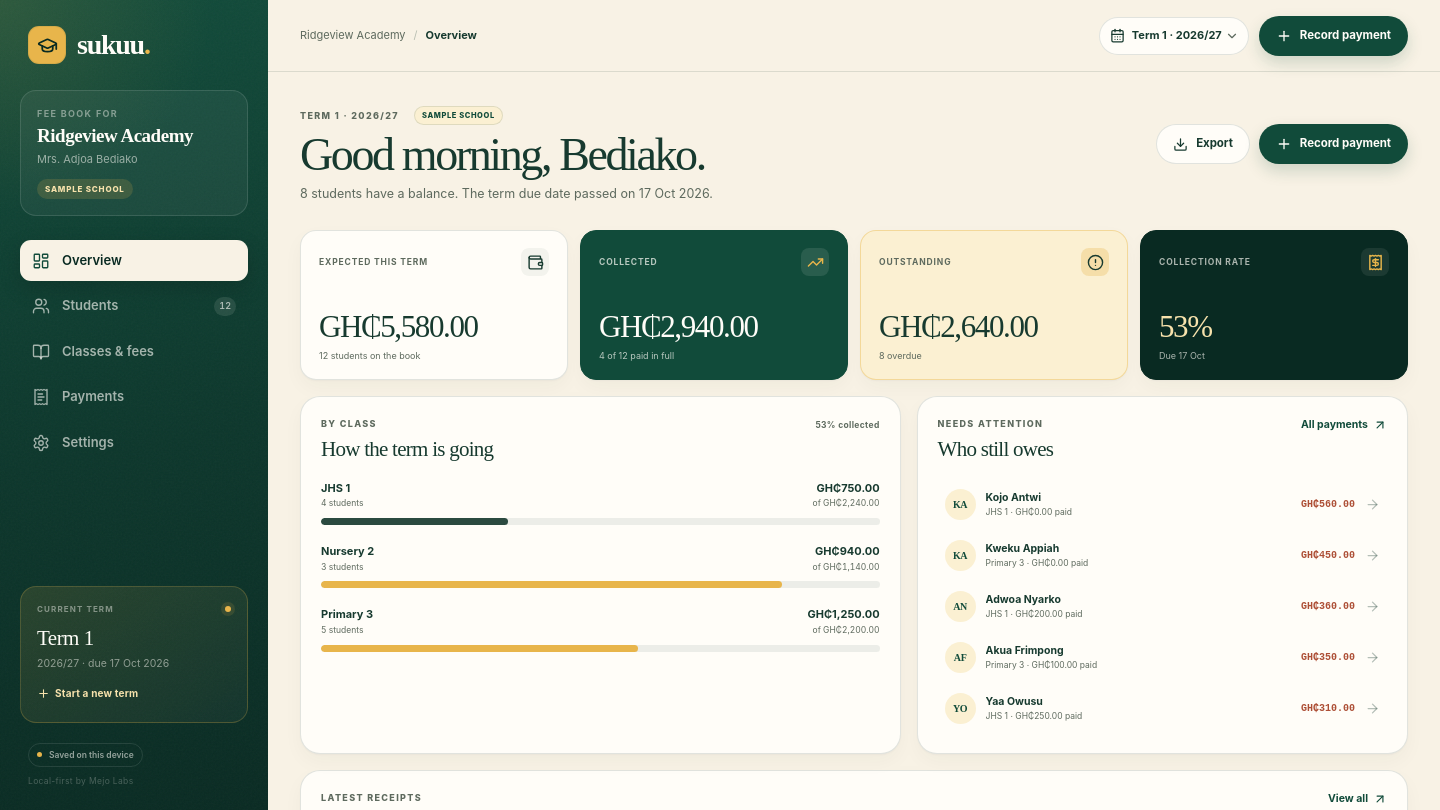
Test: Sukuu app › rejects a payment larger than the remaining balance
The image size is (1440, 810).
Click the 1st button "Record payment" at x=1333, y=36, box [1259,16,1408,56]
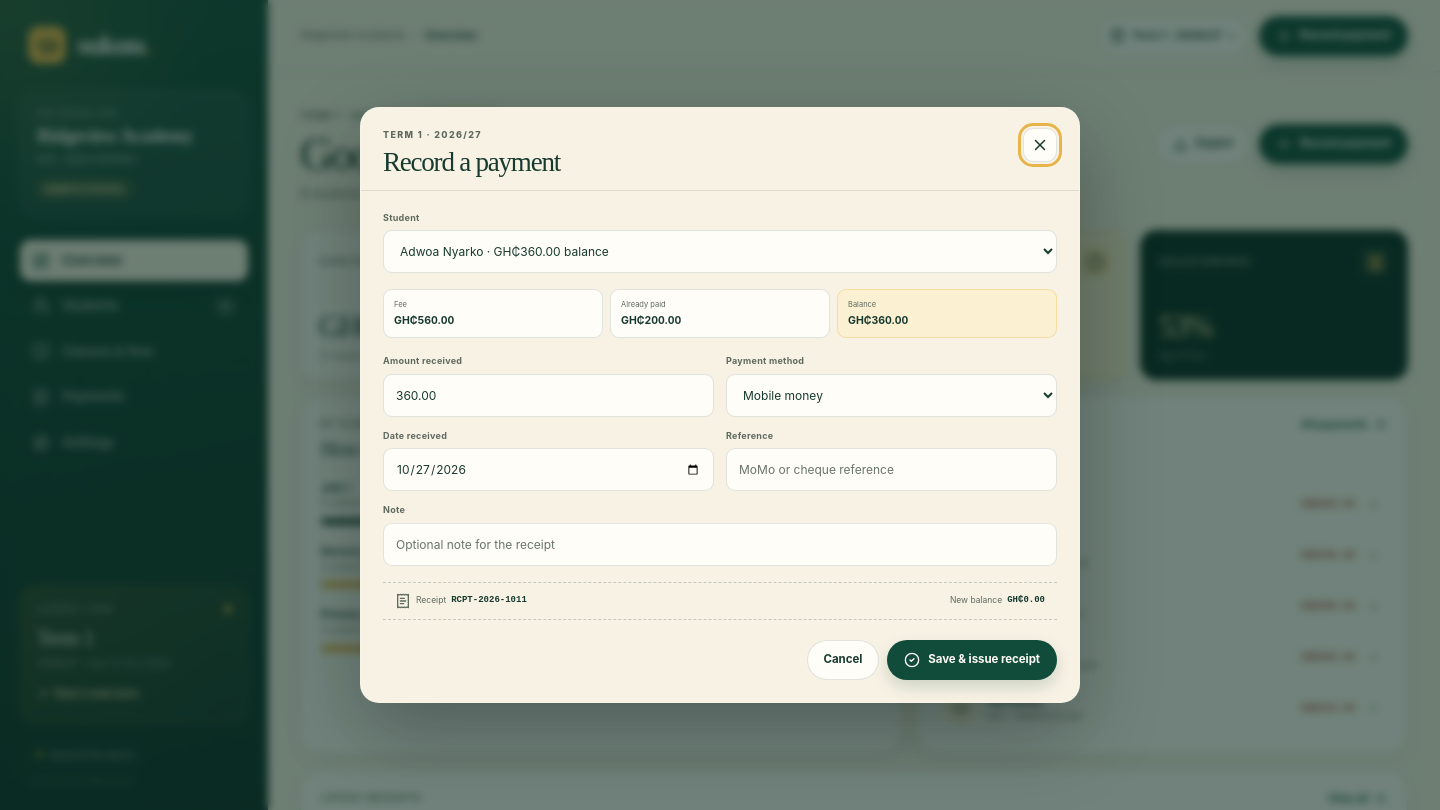
Replace the text in the field labelled "Amount received" with "9999" at x=548, y=395, box [383,374,714,417]
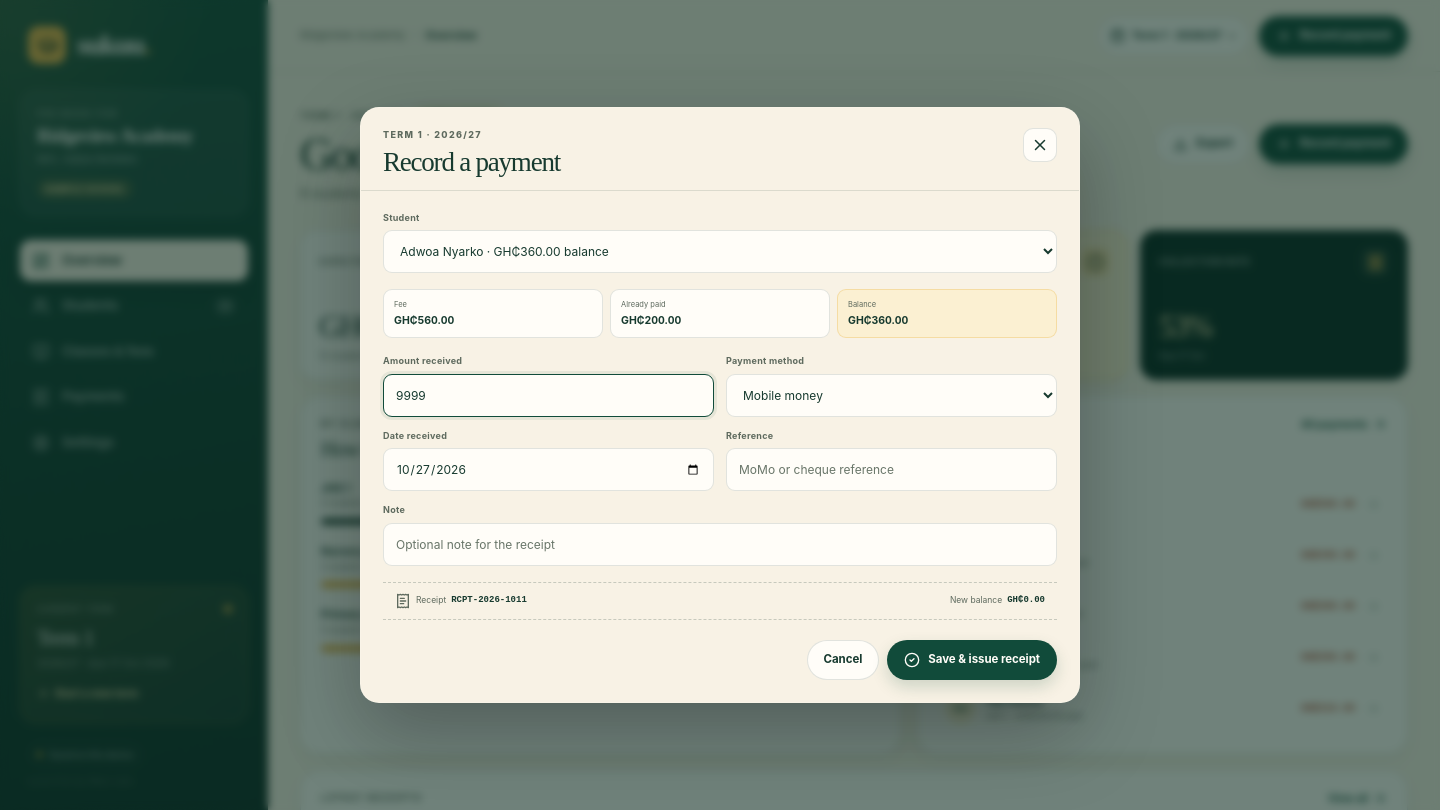
Click the button "Save & issue receipt" at x=972, y=660, box [887,640,1057,680]
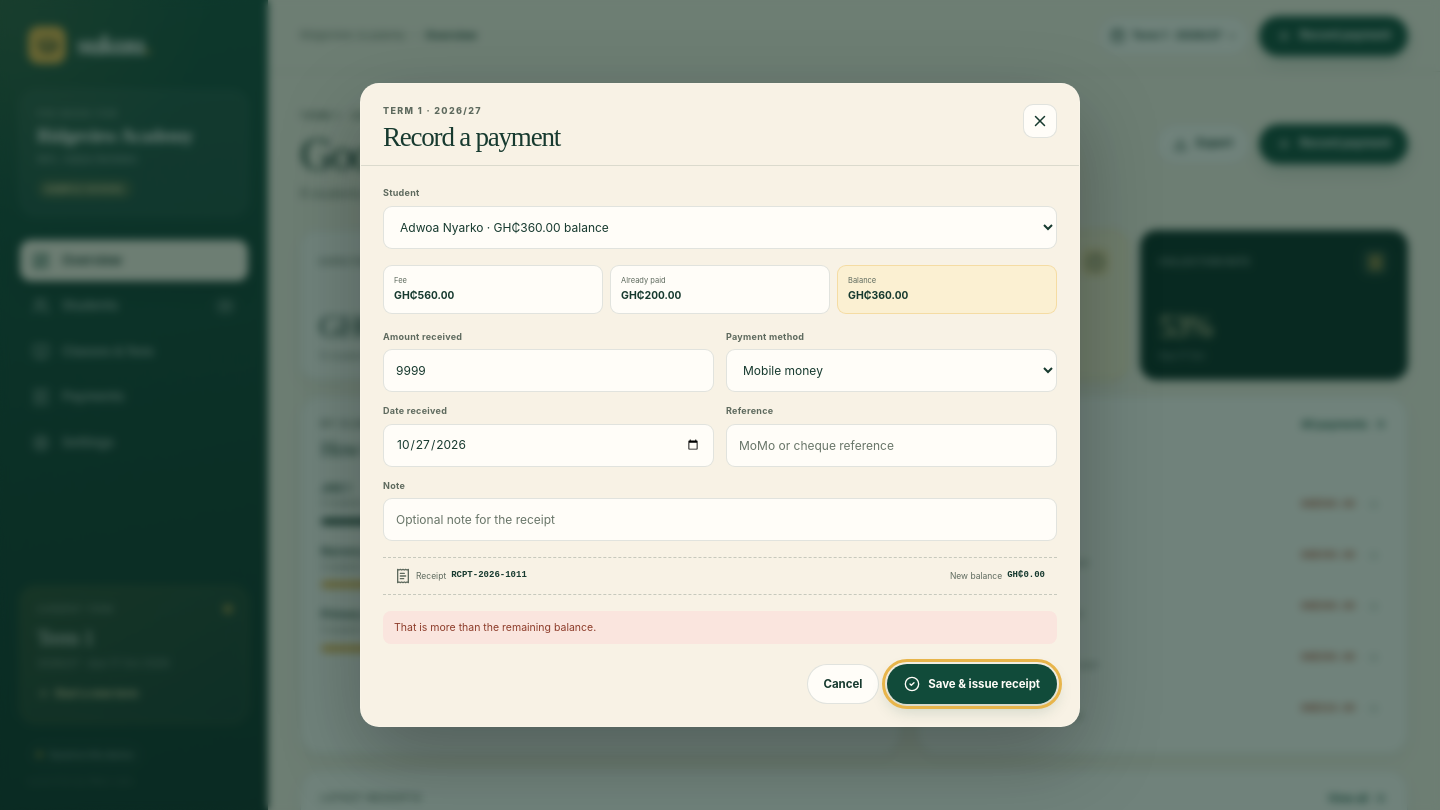
Expected: the message shows "more than the remaining balance", [394,621,596,634]
